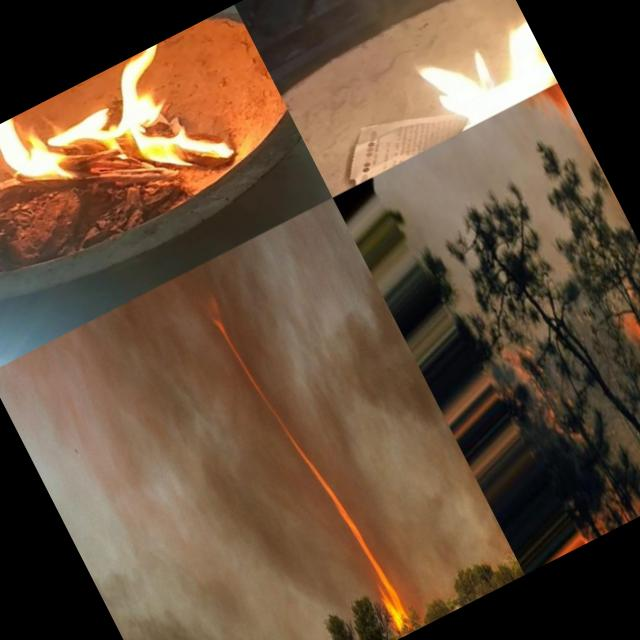fire: (206, 294, 415, 640), (526, 82, 640, 476), (0, 41, 217, 247), (326, 8, 558, 182)
smoke: (0, 273, 356, 640), (228, 198, 512, 604)
